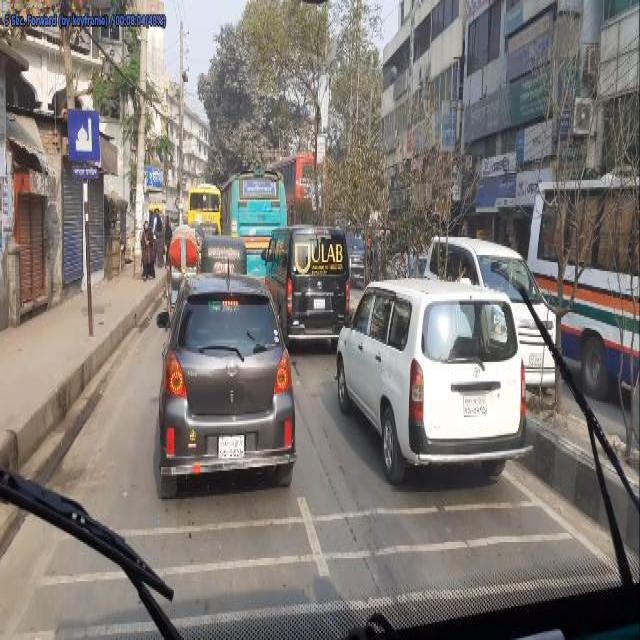bus: (525, 167, 638, 403), (219, 164, 287, 278), (269, 152, 328, 224), (186, 178, 221, 236)
car: (331, 274, 534, 485), (155, 250, 297, 502), (340, 227, 367, 286)
motorcycle: (162, 219, 201, 330), (198, 234, 247, 272)
truck: (420, 228, 560, 389), (267, 223, 351, 351)
